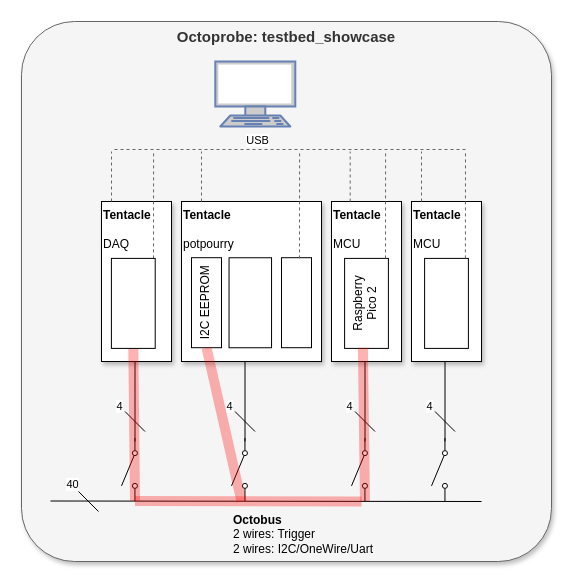
Some shapes in this 575 by 586 pixel diagram are drawn without their labels. Here are the shapes that lost their labels. From the top down, the centre of each, then its label:
point (132, 302): Salea
point (250, 302): OneWrite Temperature
point (296, 302): UART
point (446, 302): pyboard
